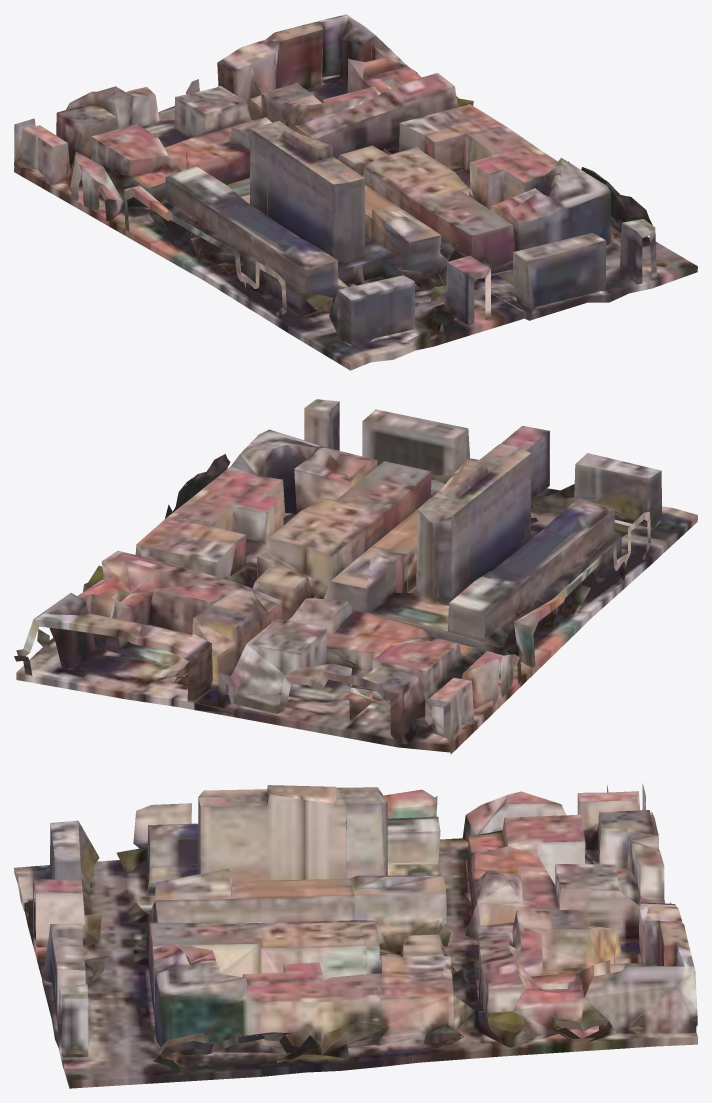
3 views of the same model, one above another, from view 1: azimuth 30°, elevation 25°; view 2: azimuth 150°, elevation 25°; view 3: azimuth 270°, elevation 25° (orthographic). The views are drawn at different scales.
Visible parts, largest first — view 1: Mesh_0; view 2: Mesh_0; view 3: Mesh_0.
Boxes of the visible parts, x1,y1,x2,y2 form: Mesh_0: [14, 14, 697, 370]; Mesh_0: [14, 399, 697, 754]; Mesh_0: [14, 783, 697, 1088].
Size of the model in its own units: 266 by 78.21 by 330.
1 material, 1 textured.
